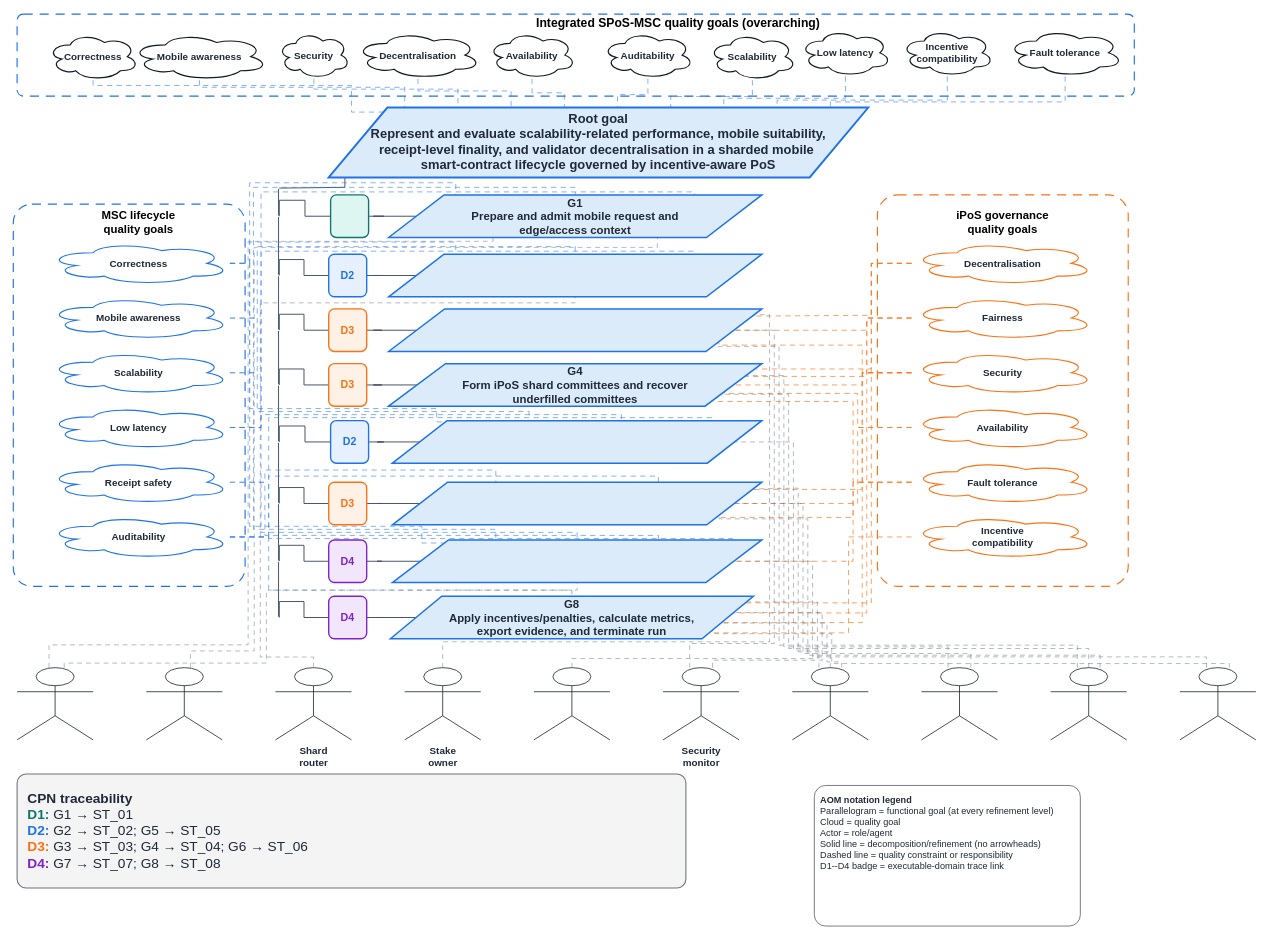
The diagram is 1275 pixels wide and 939 high, and some of its shapes have lost their labels. The centre of each missing label's shape, as x and y in pixels:
"Committee coordinator" belongs at [959,703].
"D1" belongs at [349,216].
"Edge gateway" belongs at [184,703].
"G2 Route transaction adaptively and expose load/reconfiguration state" belongs at [574,275].
"G3 Score validators using owner stake, mobile fitness, availability, and risk" belongs at [574,330].
"G5 Execute smart contract and generate block/proof evidence" belongs at [576,442].
"G6 Produce distinct-member quorum finality certificate" belongs at [576,503].
"G7 Verify certificate, commit to root chain, and deliver mobile receipt" belongs at [576,561].
"Mobile user" belongs at [54,703].
"Mobile validator" belongs at [1088,703].
"Reward manager" belongs at [571,703].
"Root / evidence manager" belongs at [1217,703].
"Shard proposer / voter" belongs at [830,703].
